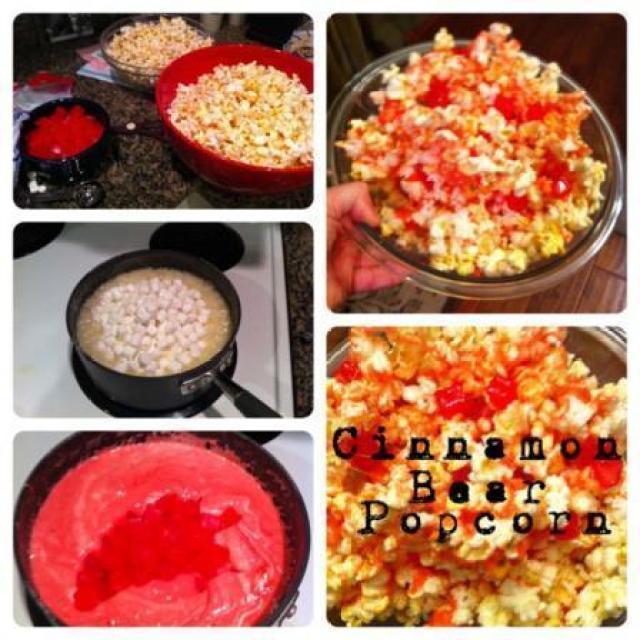Popcorn: (325, 322, 628, 624), (338, 25, 609, 282), (165, 57, 314, 163), (102, 14, 216, 87)
